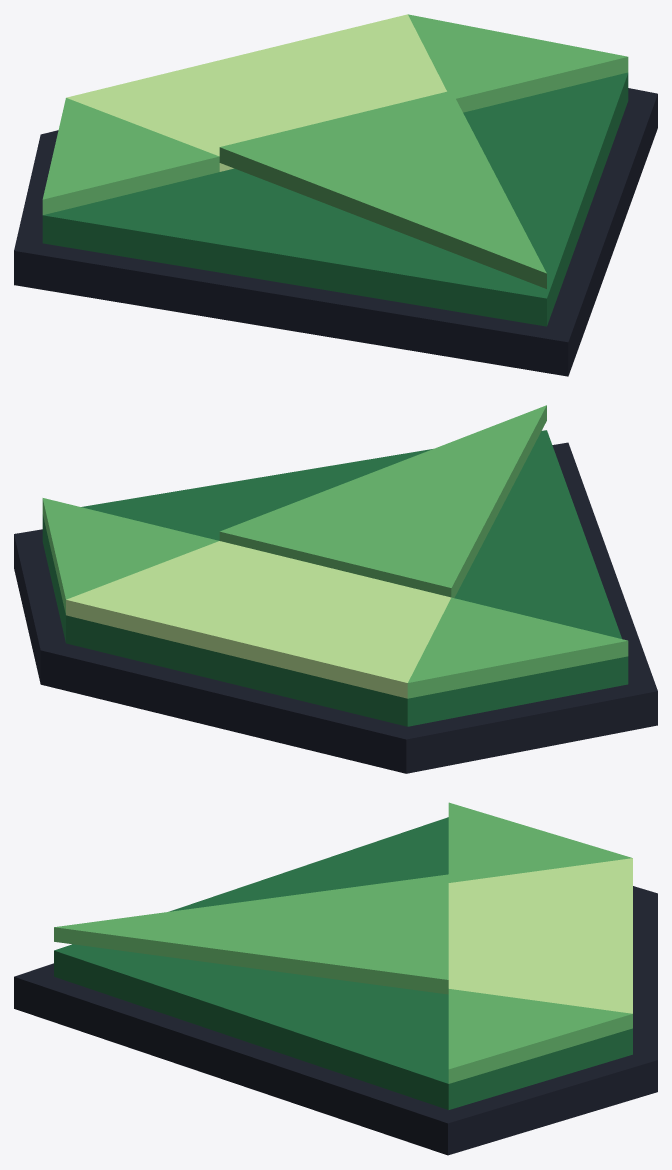
Rendered from green_gem.fbx.
3 renders of one model, top to bottom at view 1: azimuth 30°, elevation 25°; view 2: azimuth 150°, elevation 25°; view 3: azimuth 270°, elevation 25°, orthographic. The views are drawn at different scales.
Parts seen in each view (by area): view 1: green_gem; view 2: green_gem; view 3: green_gem.
Boxes of the visible parts, bbox=[...] form: green_gem: bbox=[14, 14, 657, 376]; green_gem: bbox=[14, 405, 657, 773]; green_gem: bbox=[14, 802, 657, 1155].
Bounding box in the file's own units: 1.08 × 0.14 × 1.
1 material, 1 textured.
